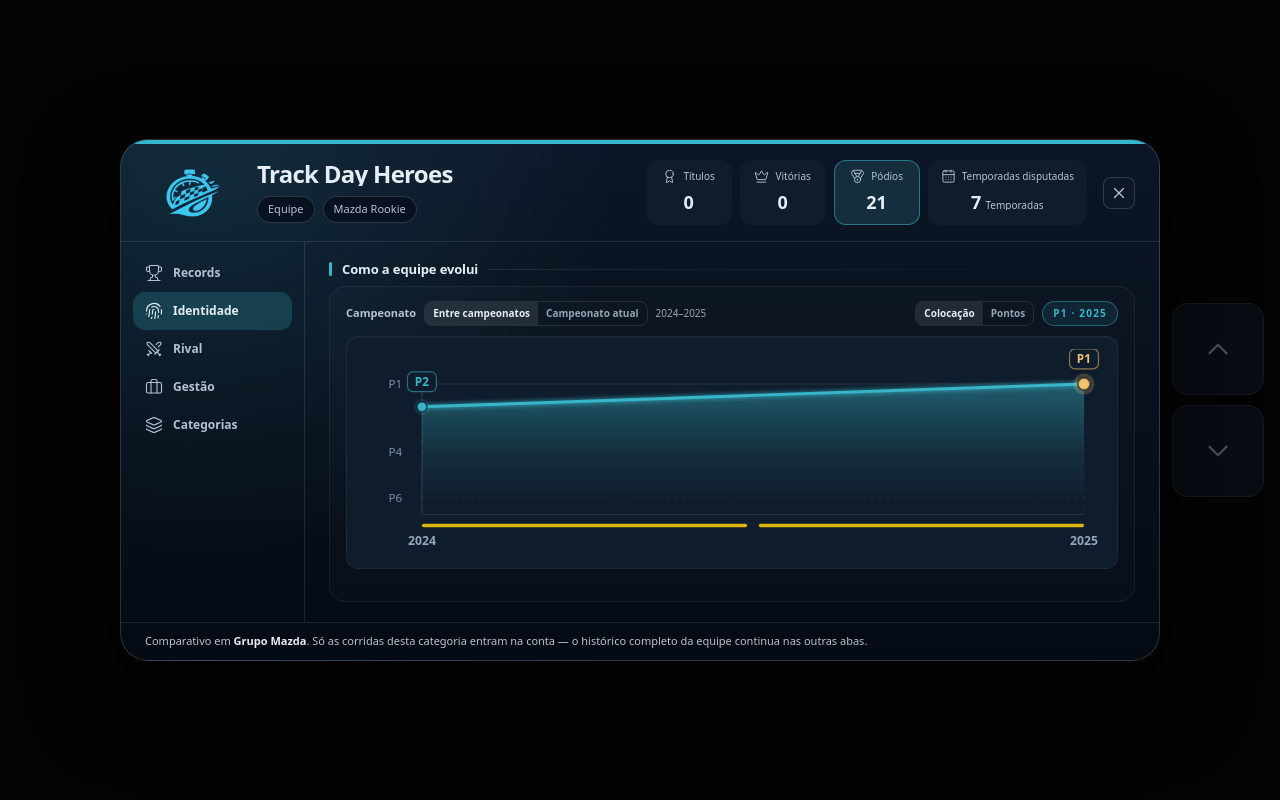
TeamHistoryDrawerV2 — campanha do campeonato › abre na curva entre campeonatos e troca para a campanha pelo seletor
Check: the icon with test id "team-history-curve" is shown, box [359,349,1105,556]
Click the button "Campeonato atual" at (592, 314), box [538,302,647,325]
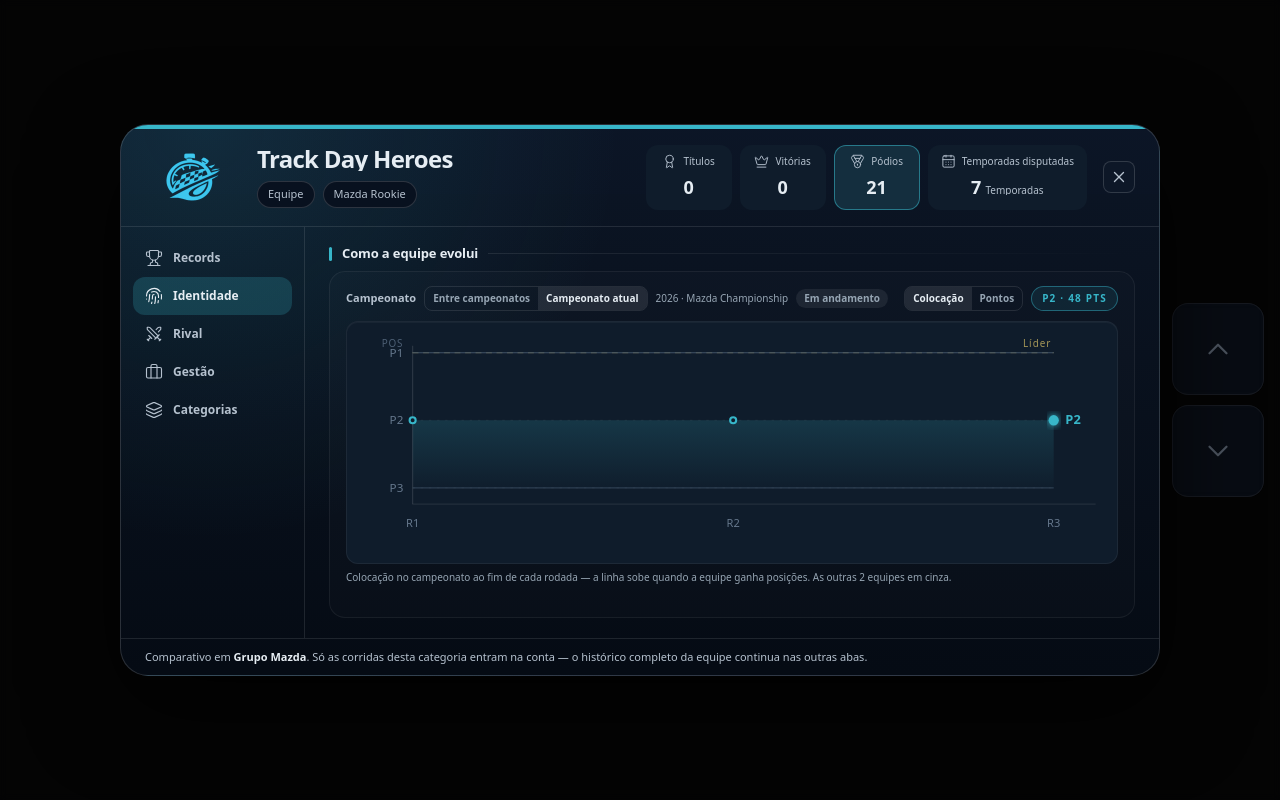
Check: the icon with test id "team-history-championship-run" is shown, box [359,334,1105,551]
Check: the icon with test id "team-history-curve" is gone
